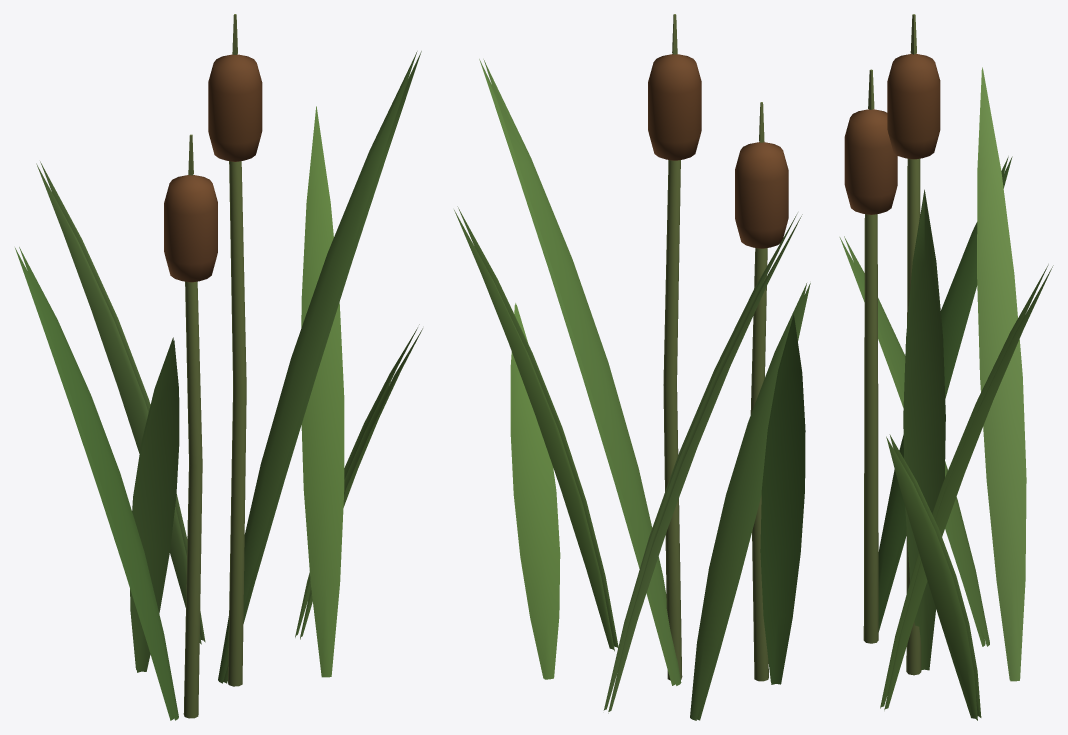
Rendered from reeds-hd.glb.
The picture shows the model from 3 angles, left to right: view 1: azimuth 30°, elevation 25°; view 2: azimuth 150°, elevation 25°; view 3: azimuth 270°, elevation 25°; orthographic projection.
Parts seen in each view (by area): view 1: reeds-hd; view 2: reeds-hd; view 3: reeds-hd.
Part boxes in pixels (x1,y1,x2,y2): reeds-hd: [15, 14, 422, 720]; reeds-hd: [454, 14, 810, 720]; reeds-hd: [839, 14, 1053, 720].
Size of the model in its own units: 0.7723 by 1.36 by 0.4029.
